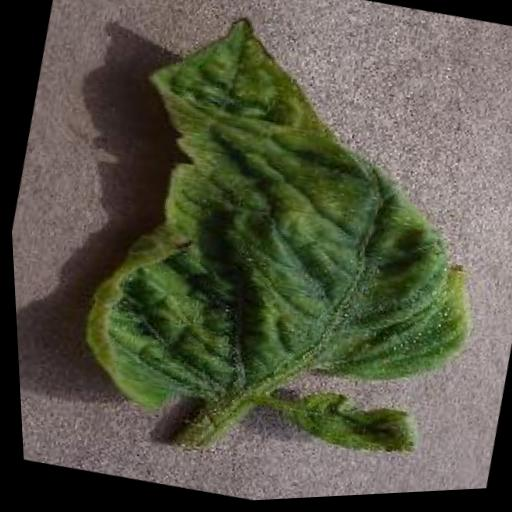Yellow Leaf Curl Virus: (56, 0, 512, 478)
